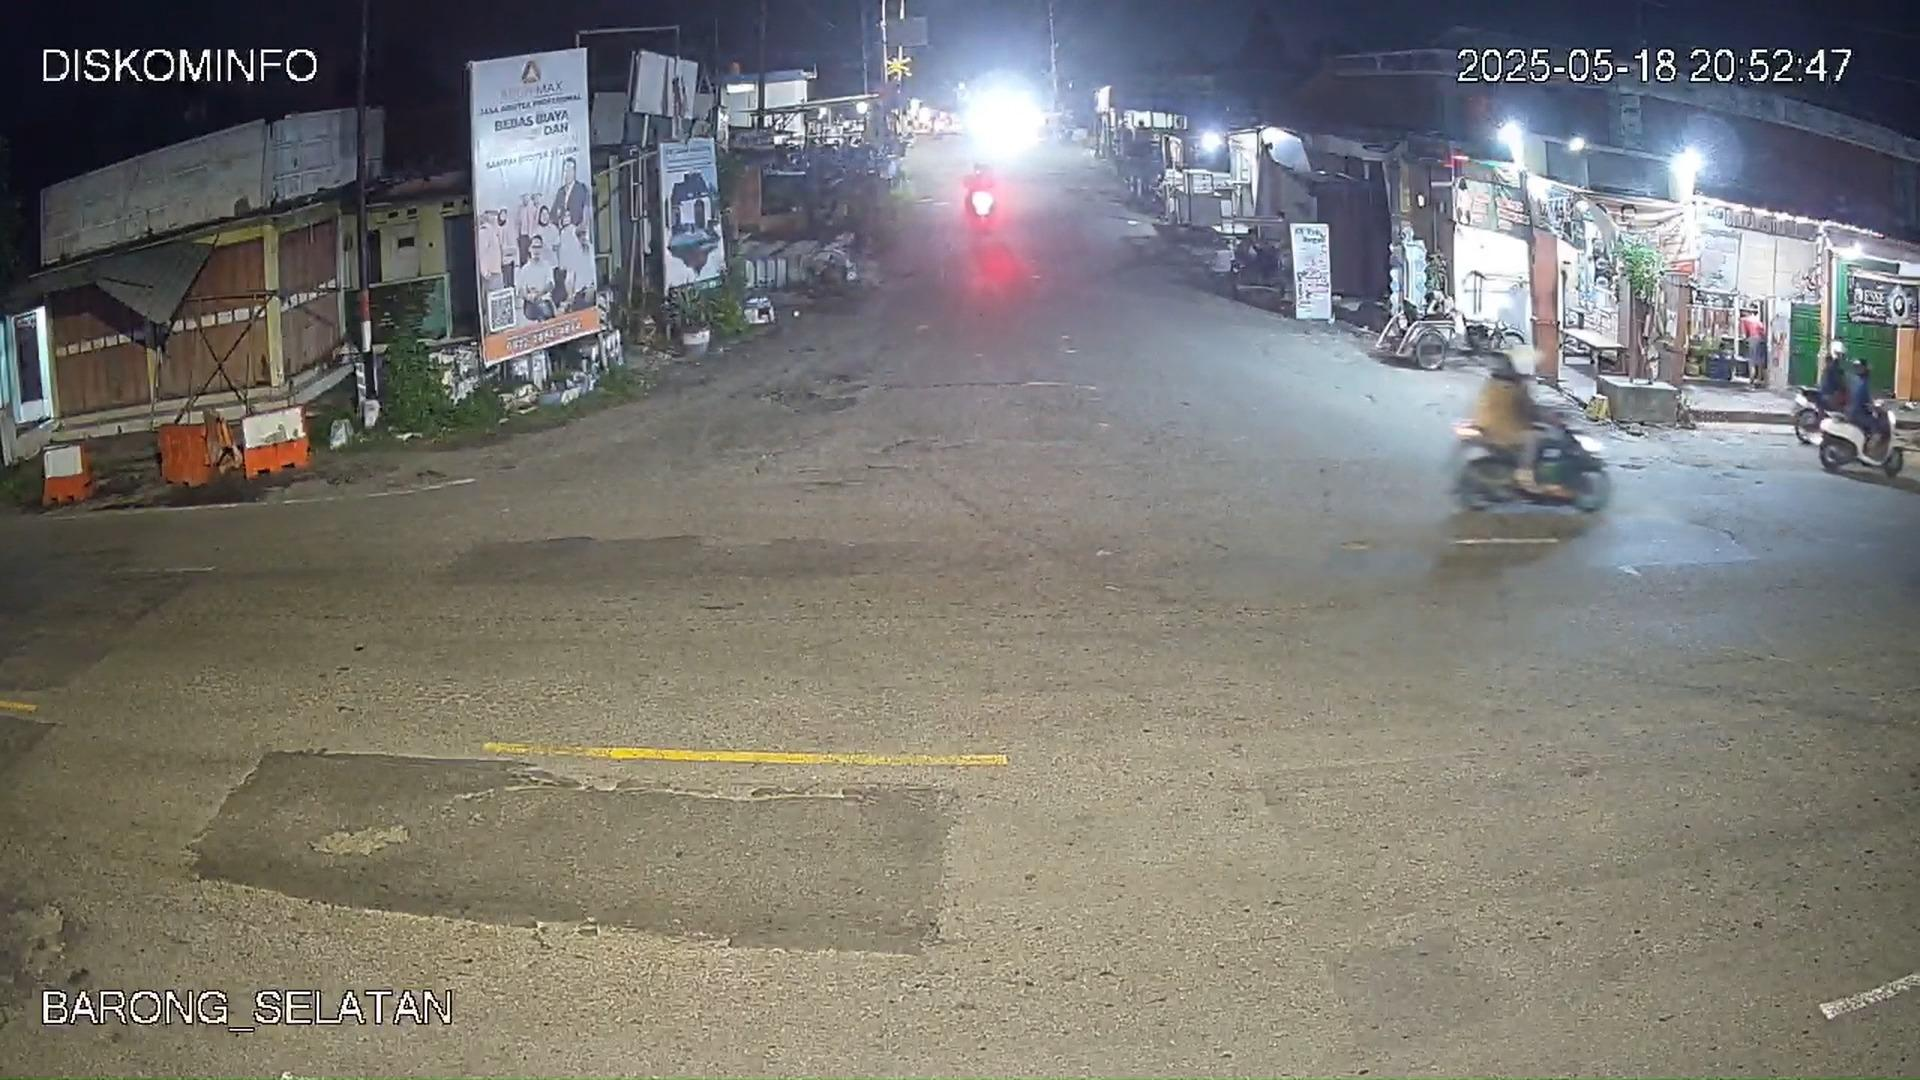Motor: (1447, 400, 1609, 518), (1789, 369, 1904, 477), (959, 150, 1014, 269)
